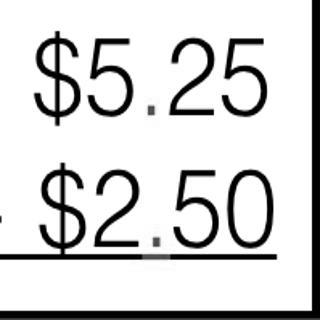.: (141, 97, 159, 121), (149, 235, 162, 249)
0: (223, 161, 276, 252)
2: (91, 162, 144, 253), (167, 30, 219, 121)
5: (169, 162, 221, 254), (83, 31, 135, 122), (220, 32, 272, 123)
